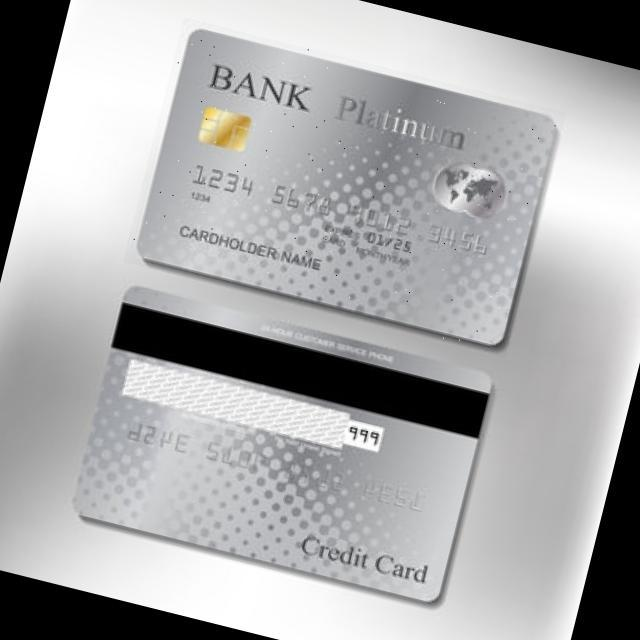payment_card: (134, 25, 560, 347), (71, 285, 493, 604)
